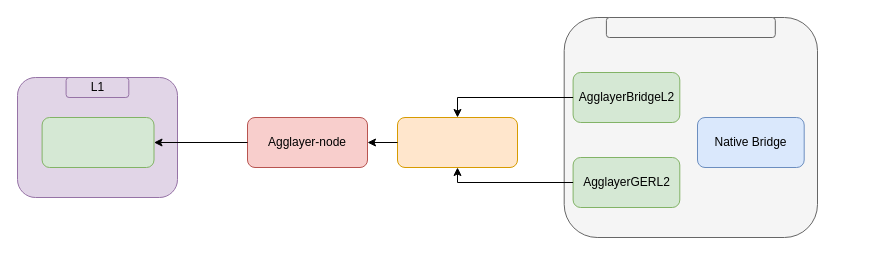
This 875x255 diagram has some shape labels left out. Here are the shapes that lost their labels. From the top down, the box of each, then its label:
(605, 16, 775, 38): Outpost chain
(41, 116, 154, 168): AgglayerCore SC
(396, 116, 518, 168): Aggkit:Aggsender
